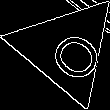O_NW: (31, 16, 101, 82)
